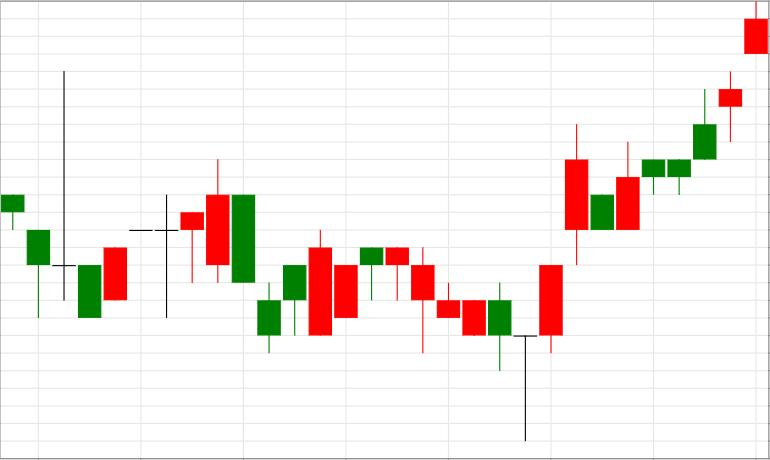morning_star_rise: (386, 247, 563, 442)
